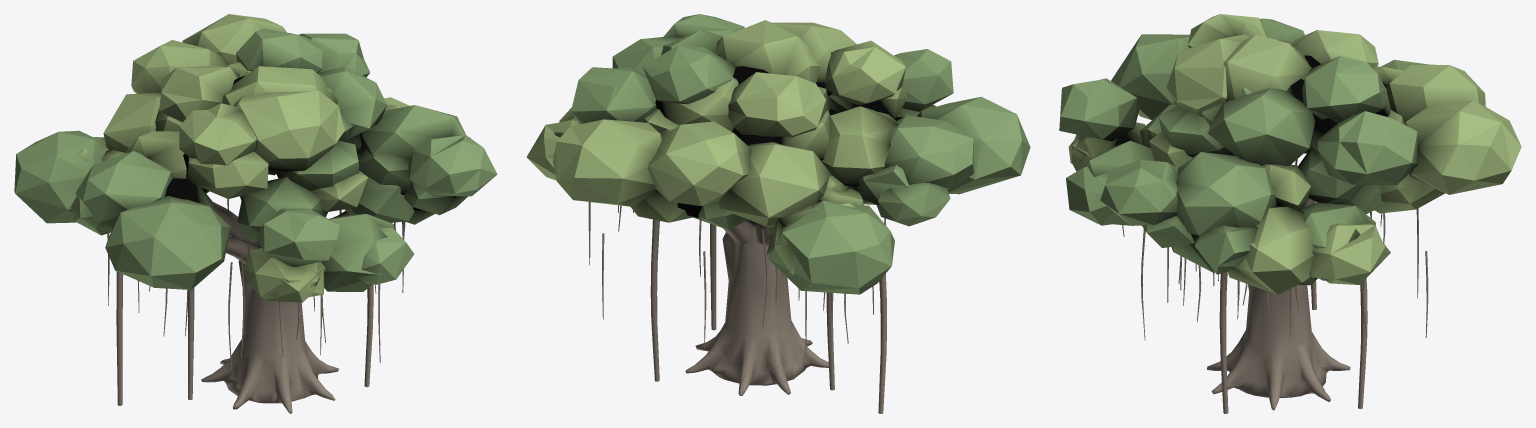
File: banyan.glb
3 views of the same model, side by side, from view 1: azimuth 30°, elevation 25°; view 2: azimuth 150°, elevation 25°; view 3: azimuth 270°, elevation 25° (orthographic). The views are drawn at different scales.
Parts seen in each view (by area): view 1: leaf, leafLight, wood, roots; view 2: leafLight, leaf, wood, roots; view 3: leaf, leafLight, wood, roots.
Part boxes in pixels (x1=…): leaf: x1=14, y1=28, x2=497, y2=291; leafLight: x1=77, y1=14, x2=409, y2=302; wood: x1=201, y1=195, x2=349, y2=413; roots: x1=107, y1=199, x2=405, y2=405; leafLight: x1=526, y1=20, x2=935, y2=274; leaf: x1=554, y1=14, x2=1030, y2=294; wood: x1=685, y1=219, x2=828, y2=395; roots: x1=588, y1=202, x2=886, y2=413; leaf: x1=1059, y1=18, x2=1428, y2=285; leafLight: x1=1068, y1=14, x2=1521, y2=294; wood: x1=1207, y1=198, x2=1350, y2=410; roots: x1=1122, y1=159, x2=1428, y2=413.
Size of the model in its own units: 11.79 by 9.16 by 11.53.
